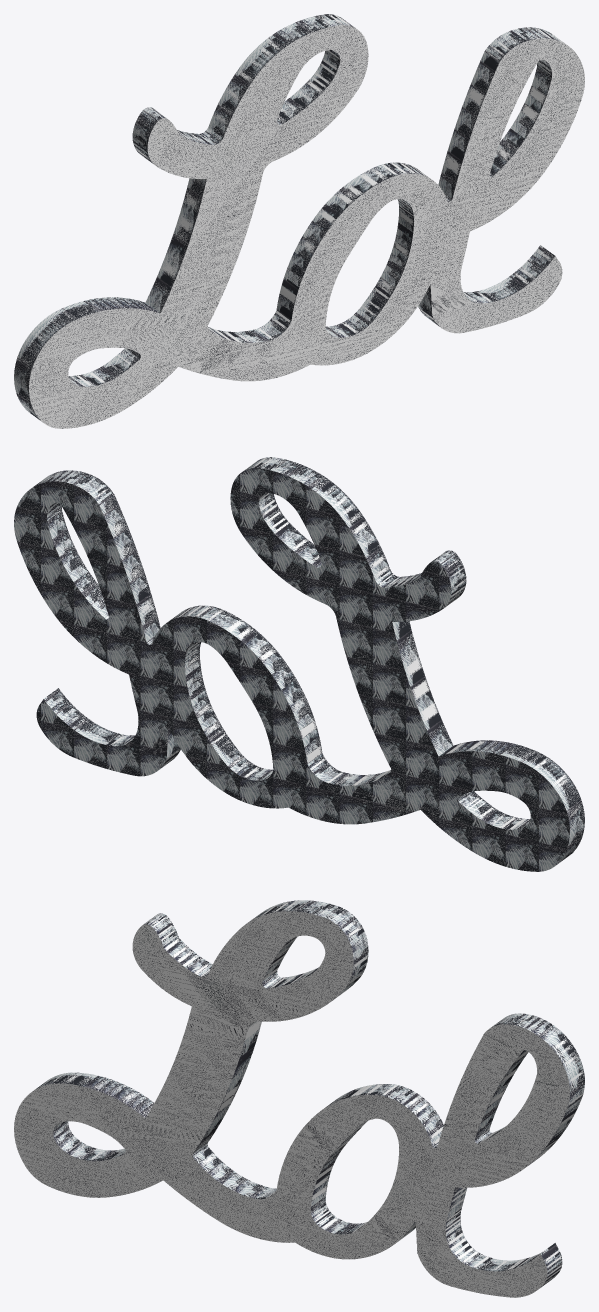
Rendered from prop_figure_lol.fbx.
The picture shows the model from 3 angles, top to bottom: view 1: azimuth 30°, elevation 25°; view 2: azimuth 150°, elevation 25°; view 3: azimuth 330°, elevation 25°; orthographic projection.
Visible parts, largest first — view 1: Model; view 2: Model; view 3: Model.
Part boxes in pixels (x1,y1,x2,y2): Model: (14,14,584,428); Model: (14,457,584,871); Model: (14,900,584,1297).
Size of the model in its own units: 0.6433 by 0.375 by 0.03.
